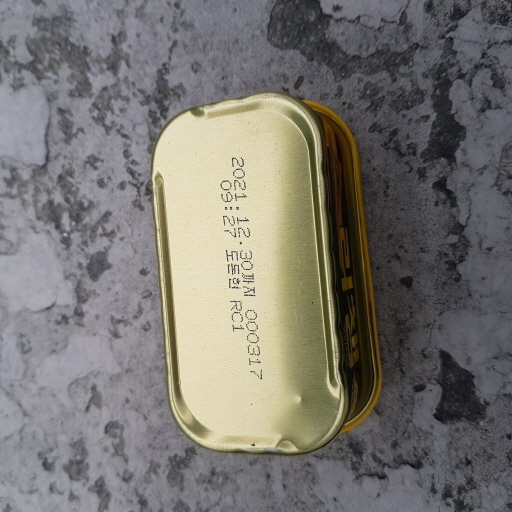Metal_2: (149, 92, 385, 457)
